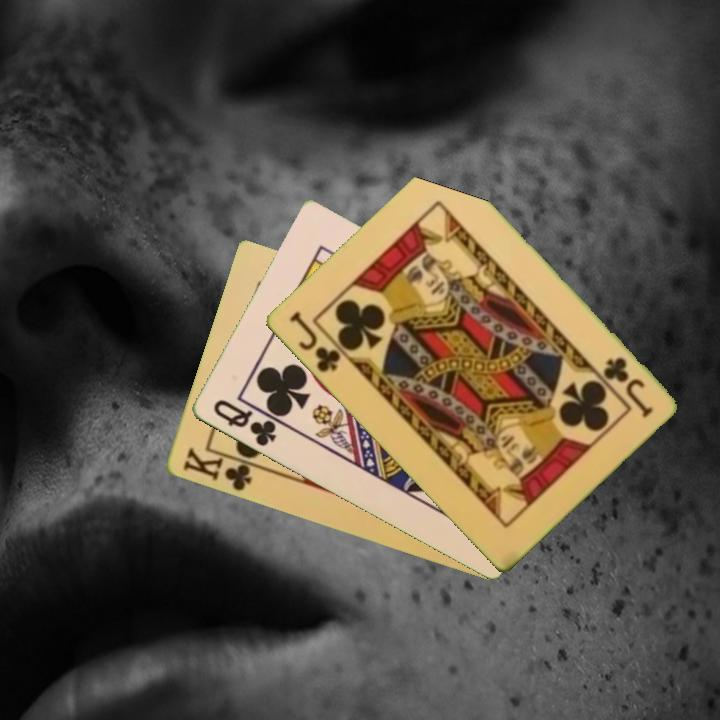Jc: (285, 308, 343, 376), (598, 353, 656, 420)
Kc: (179, 444, 262, 495)
Qc: (209, 396, 279, 450)
